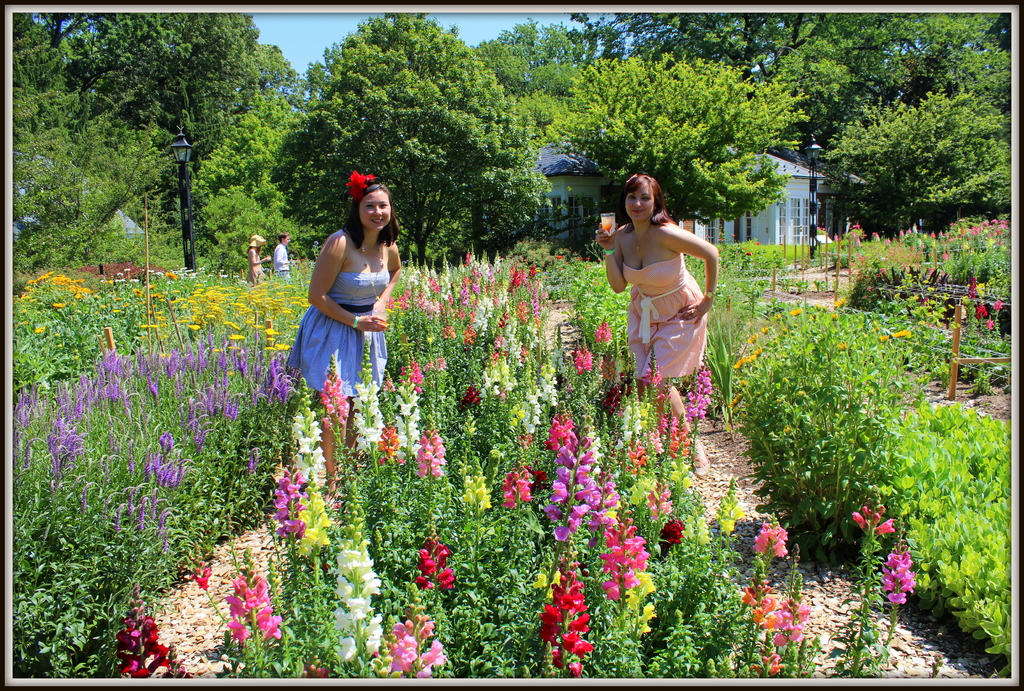Person: (271, 231, 292, 287), (273, 233, 293, 278)
